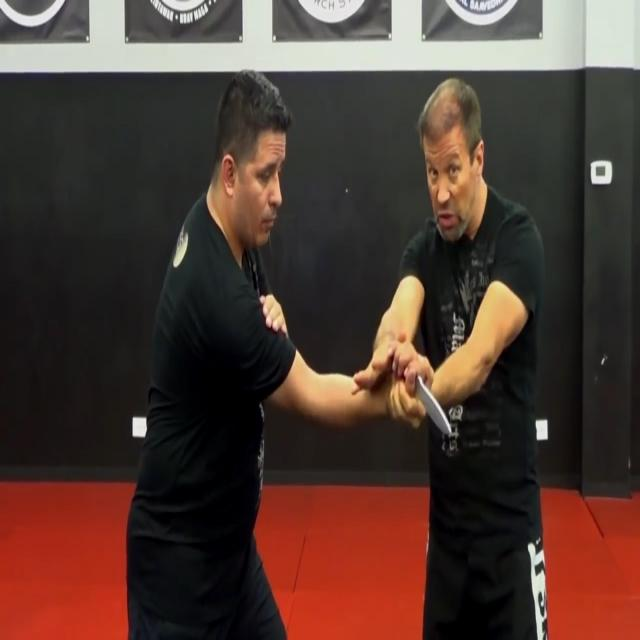knife: (411, 370, 455, 447)
